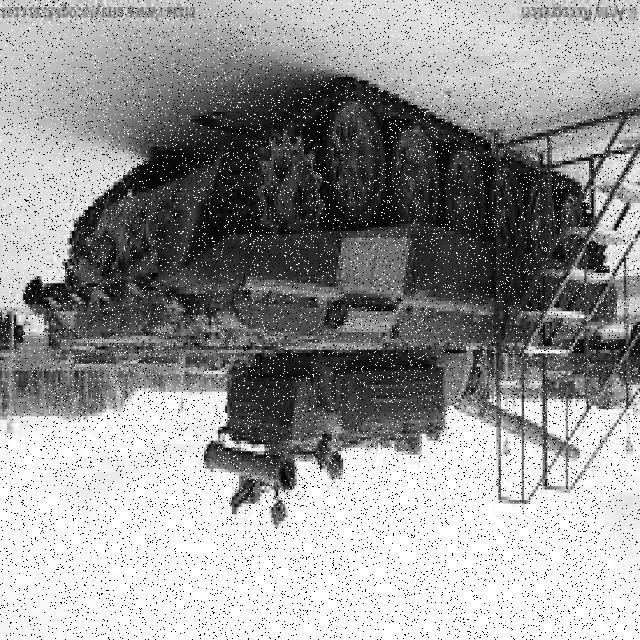MIL_MBT: (49, 86, 609, 487)
